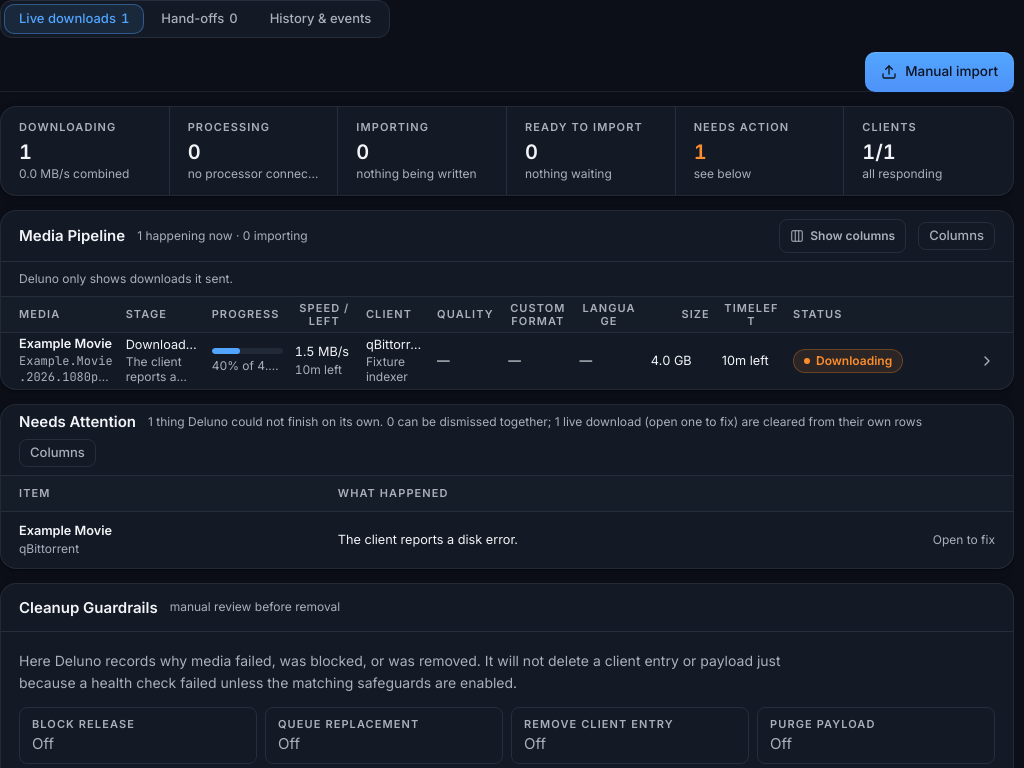
Test: download drawer: Health section › shows the client's error message under Health
Click the text "Example.Movie.2026.1080p.WEB-DL-GROUP": click(507, 360) top-left (1, 332), bottom-right (1013, 388)
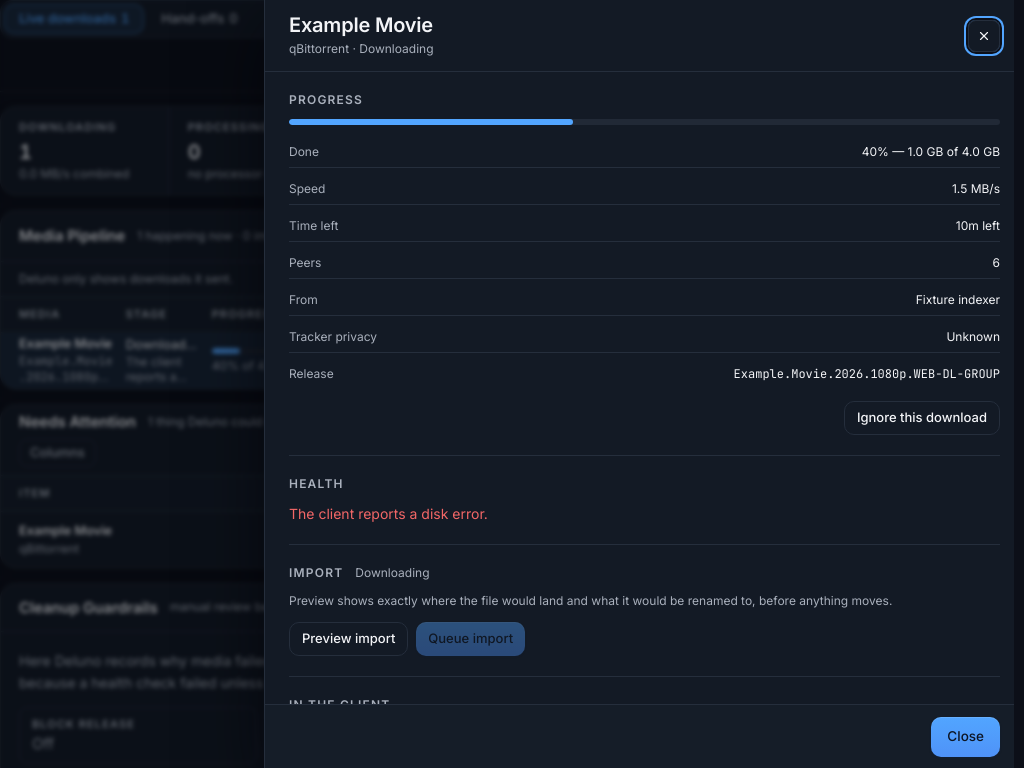
Check: the text "Health" is shown, box top-left (289, 476), bottom-right (344, 491)
Check: the text "The client reports a disk error." is shown, box top-left (289, 505), bottom-right (488, 522)
